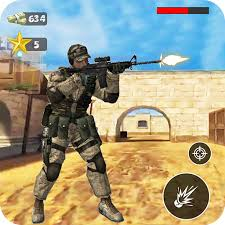gun: (58, 53, 162, 90)
